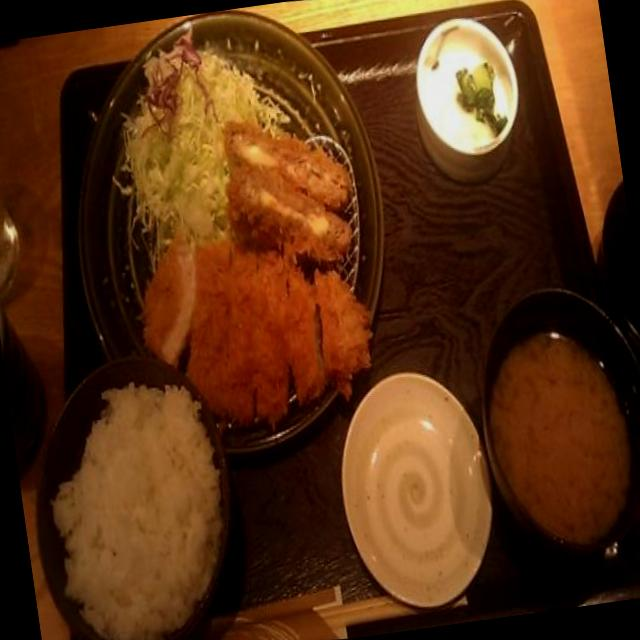Rice: (20, 375, 258, 640)
